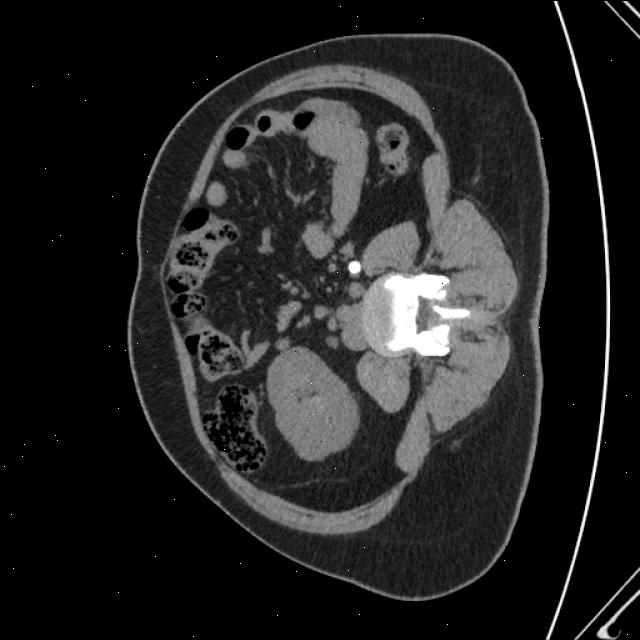kidneystone: (348, 259, 362, 275)
